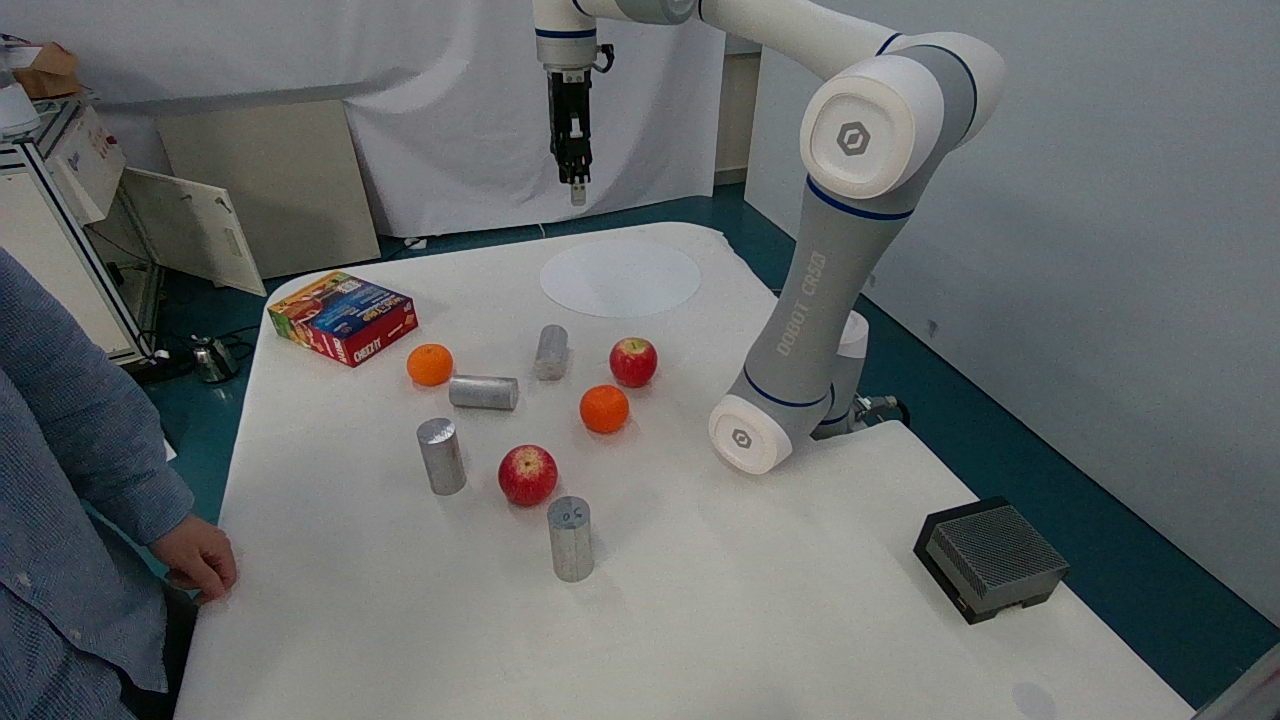apple: (573, 382, 647, 442), (403, 333, 460, 387)
metal rod: (492, 426, 564, 508), (594, 330, 671, 397)
orange: (535, 477, 603, 593), (407, 407, 473, 501), (444, 368, 529, 426), (513, 308, 570, 382)
